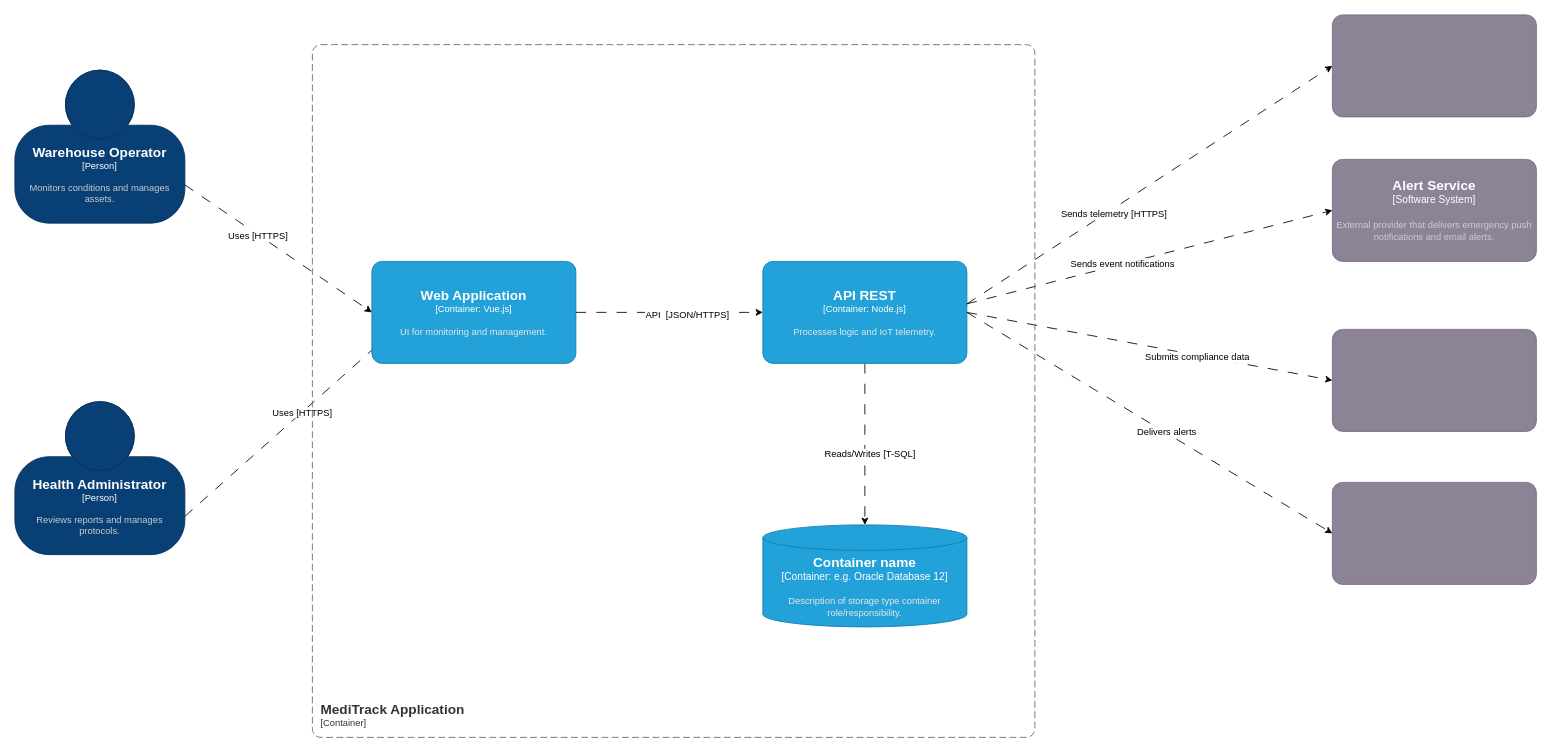
Image size: 1551x752. Some labels were removed from this diagram. Here are the shapes that lost their labels. From the top down, the centre of each, then its label:
[1434,65]: IoT Sensors [Software System] Hardware transmitting telemetry data.
[1434,380]: Regulatory System [Software System] Government auditing platform.
[1434,533]: Alert Service [Software System] Sends push and email notifications.
